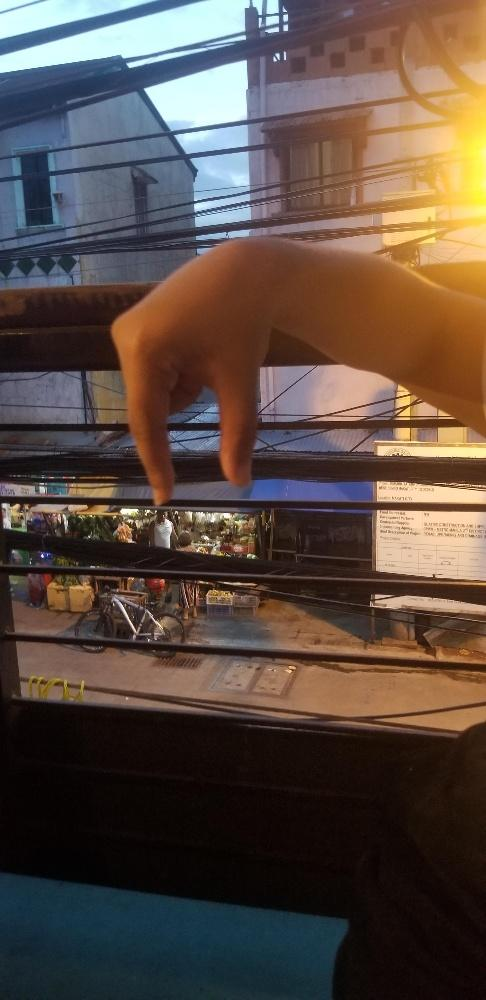q: (109, 234, 288, 509)
